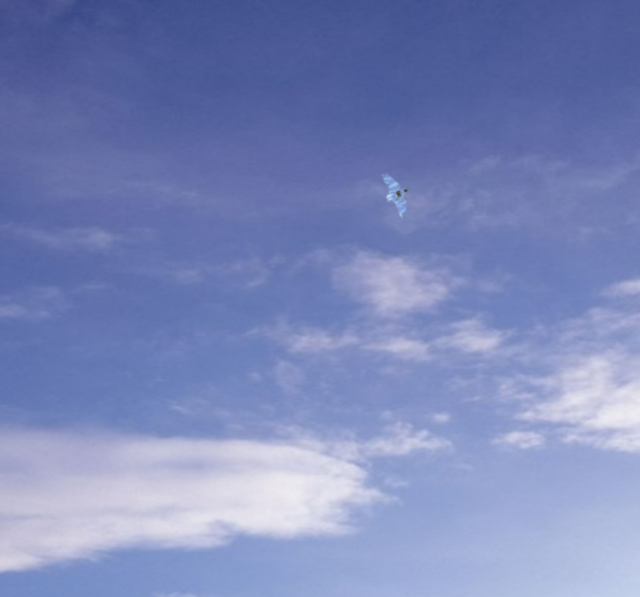military drone: (380, 173, 409, 218)
